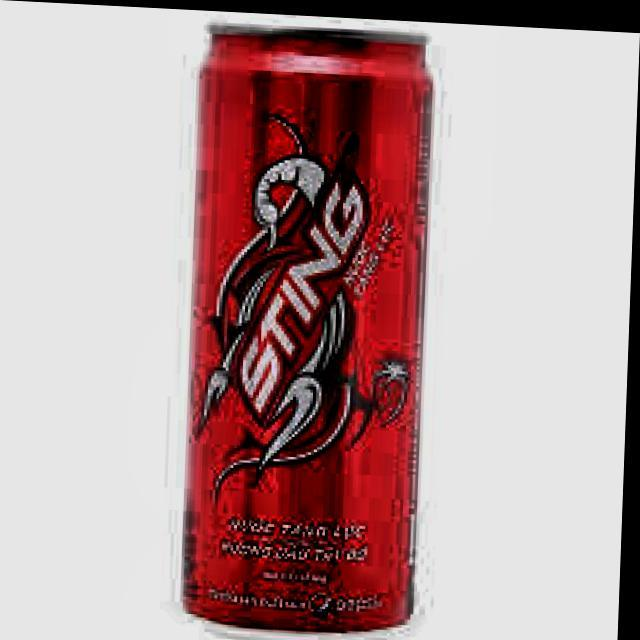litter: (182, 10, 444, 640)
